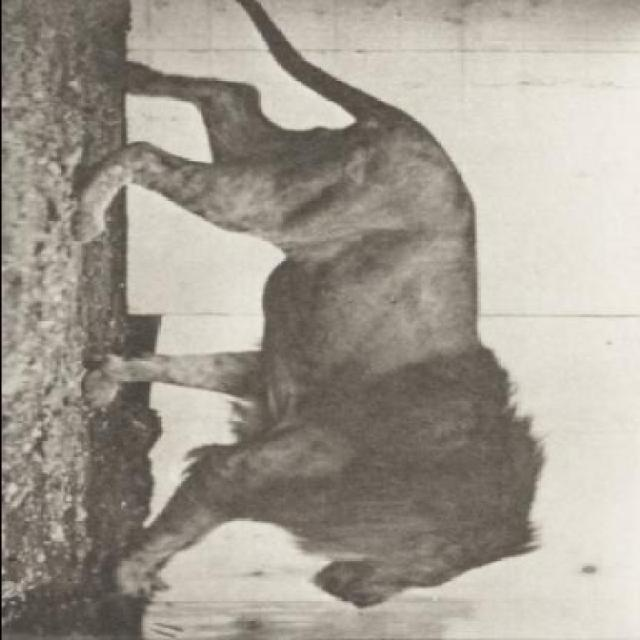Lion: (41, 4, 572, 638)
